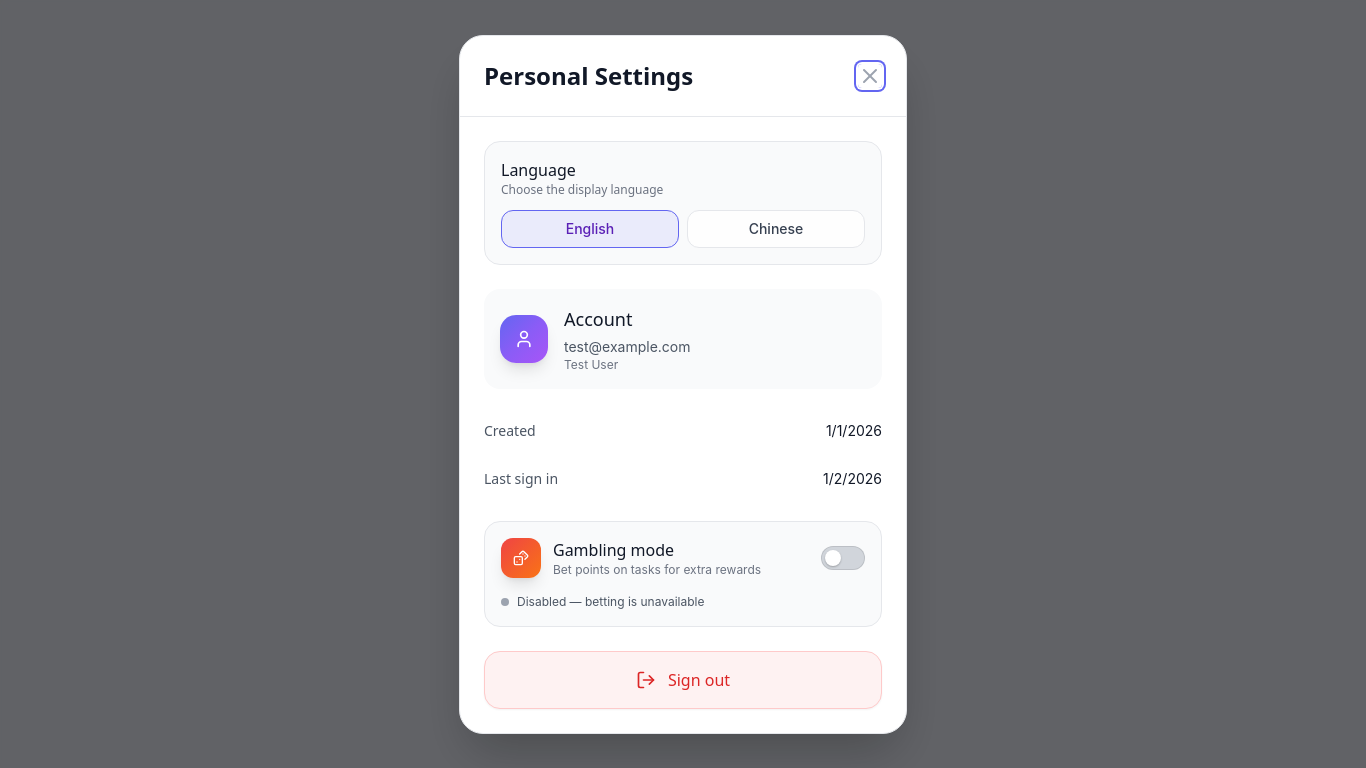
Test case: AccountModal behavior › keeps modal open and shows error on sign out failure
The width and height of the screenshot is (1366, 768).
Click the button "Sign out" at (683,680), box 484,650 -> 882,708
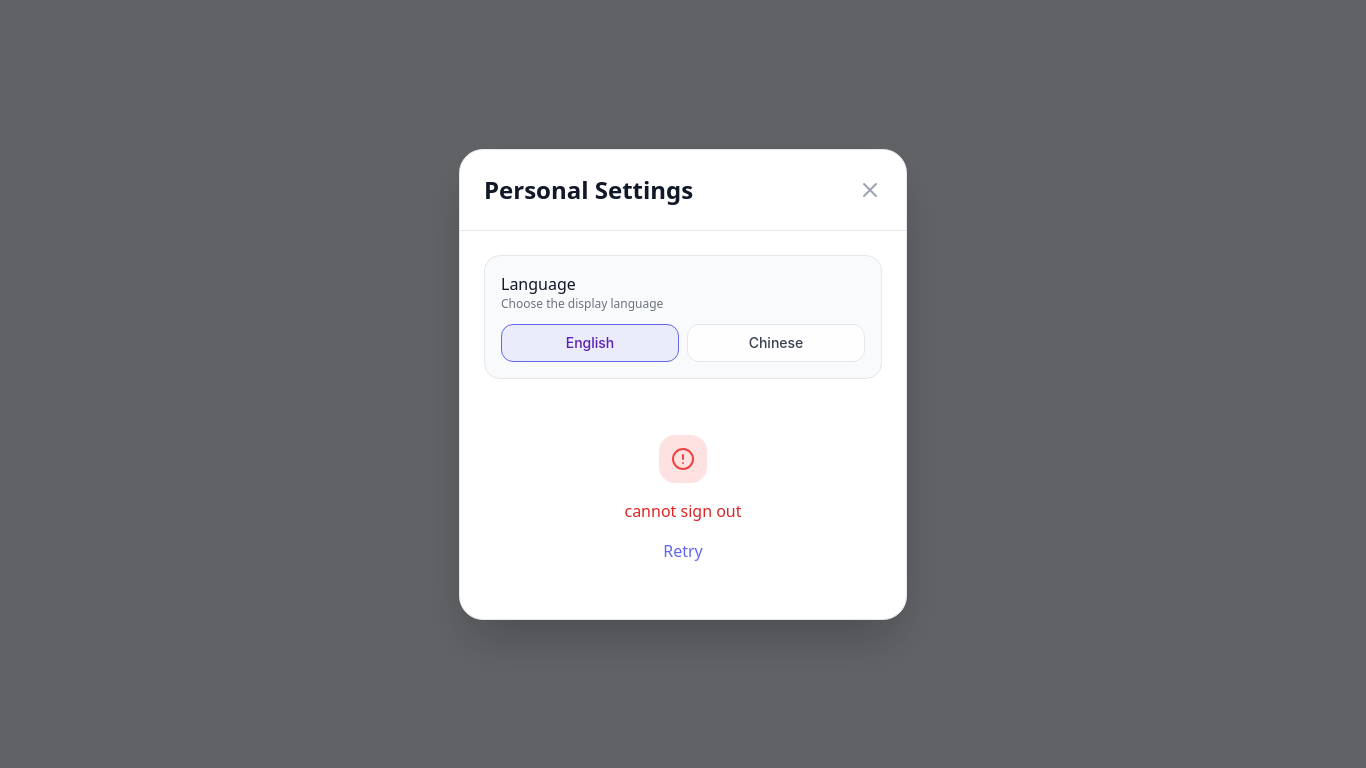
Expected: the text "cannot sign out" is shown, 624,500 -> 742,522
